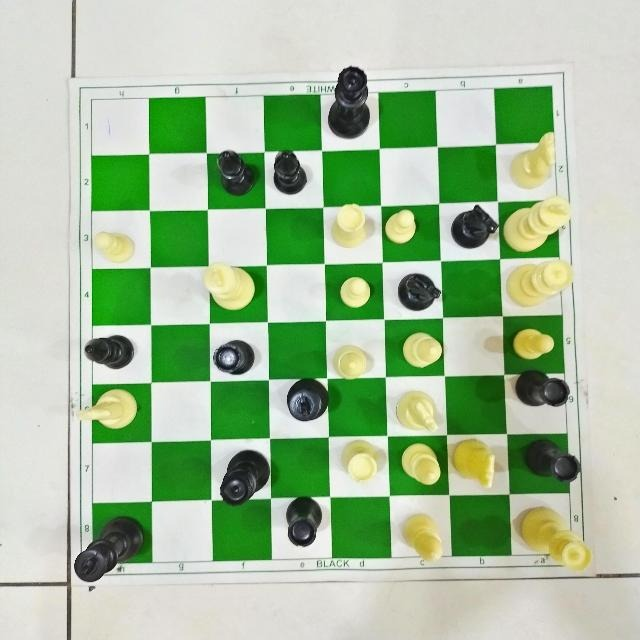black-bishop: (77, 330, 141, 375), (209, 147, 266, 197), (265, 150, 313, 198)
black-king: (61, 511, 154, 583), (280, 372, 335, 427)
black-knight: (443, 202, 502, 254), (395, 266, 447, 316)
black-queen: (323, 63, 382, 144), (215, 442, 273, 514)
black-rook: (509, 364, 571, 424), (514, 434, 581, 489), (276, 494, 328, 552), (208, 334, 262, 382)
white-bishop: (399, 507, 453, 565), (395, 439, 443, 492), (401, 331, 445, 373), (328, 341, 369, 381)
white-king: (503, 194, 573, 255), (198, 260, 260, 312)
white-knight: (77, 386, 148, 441), (508, 130, 560, 191), (451, 435, 501, 491), (392, 386, 443, 435)
white-pawn: (89, 226, 139, 266), (334, 272, 379, 312), (511, 323, 555, 359), (384, 208, 423, 244)
white-queen: (517, 503, 592, 575), (503, 258, 572, 308)
white-rook: (336, 436, 384, 489), (325, 200, 373, 252)
